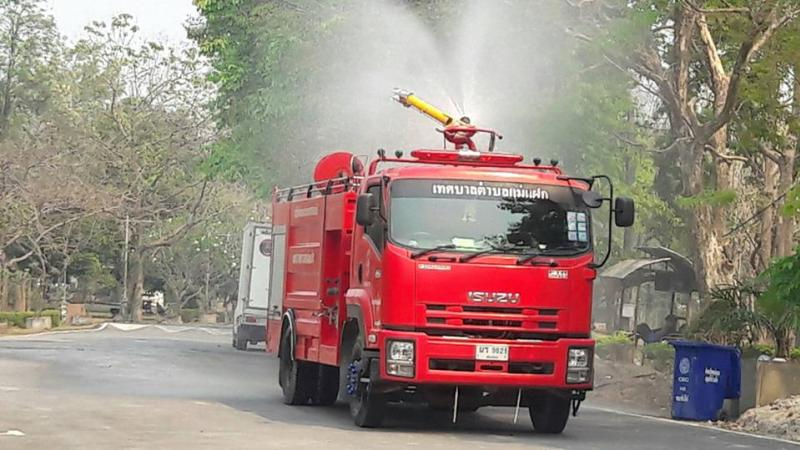truck: (269, 149, 599, 433)
